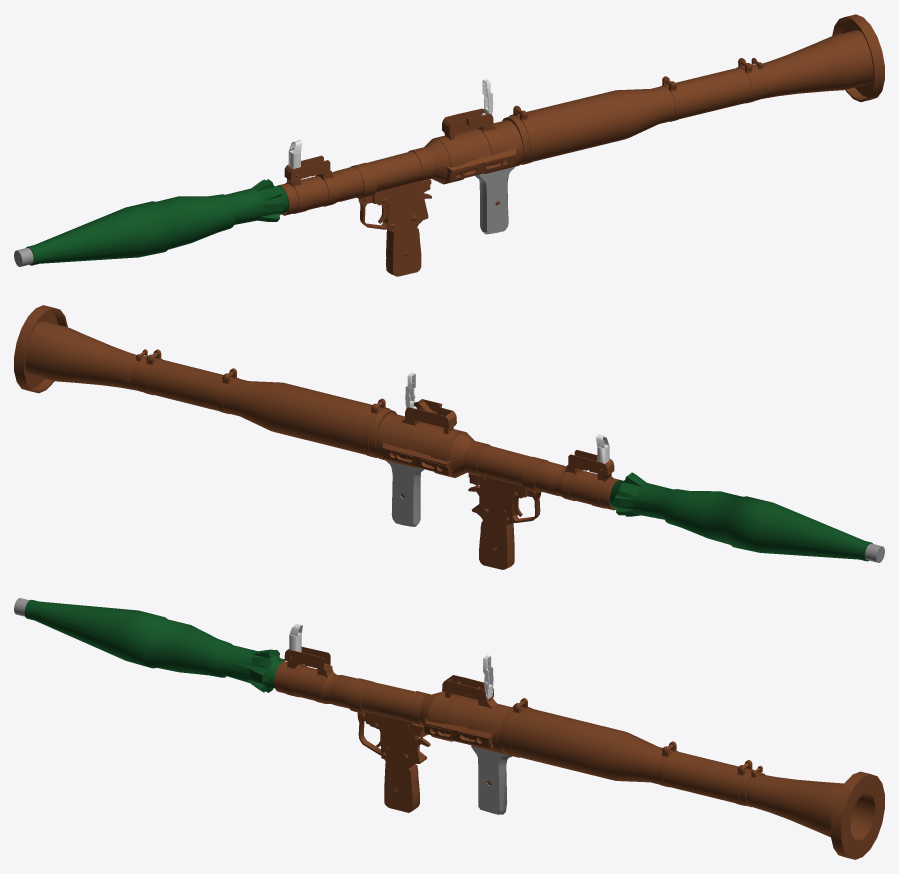
The model's file is rpg7.FBX.
3 views of the same model, one above another, from view 1: azimuth 30°, elevation 25°; view 2: azimuth 150°, elevation 25°; view 3: azimuth 330°, elevation 25° (orthographic).
Parts seen in each view (by area): view 1: rpg-7, rpg-7_pg-7vm HEAT round, rpg-7_trigger, rpg-7_grip; view 2: rpg-7, rpg-7_pg-7vm HEAT round, rpg-7_trigger, rpg-7_grip; view 3: rpg-7, rpg-7_pg-7vm HEAT round, rpg-7_trigger, rpg-7_grip.
Part boxes in pixels (x1,y1,x2,y2): rpg-7: (277,14,884,215); rpg-7_pg-7vm HEAT round: (14,179,288,266); rpg-7_trigger: (358,179,431,276); rpg-7_grip: (475,167,514,234); rpg-7: (14,305,620,510); rpg-7_pg-7vm HEAT round: (609,472,884,562); rpg-7_trigger: (468,473,541,569); rpg-7_grip: (386,460,423,526); rpg-7: (274,646,884,859); rpg-7_pg-7vm HEAT round: (14,598,284,692); rpg-7_trigger: (357,712,430,812); rpg-7_grip: (471,745,512,814).
Bounding box in the file's own units: 37.57 × 7.24 × 3.33.
